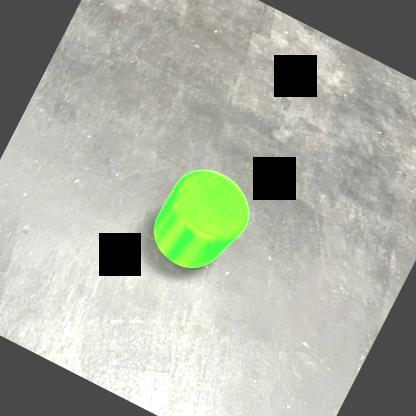green cylinder: (134, 150, 267, 291)
